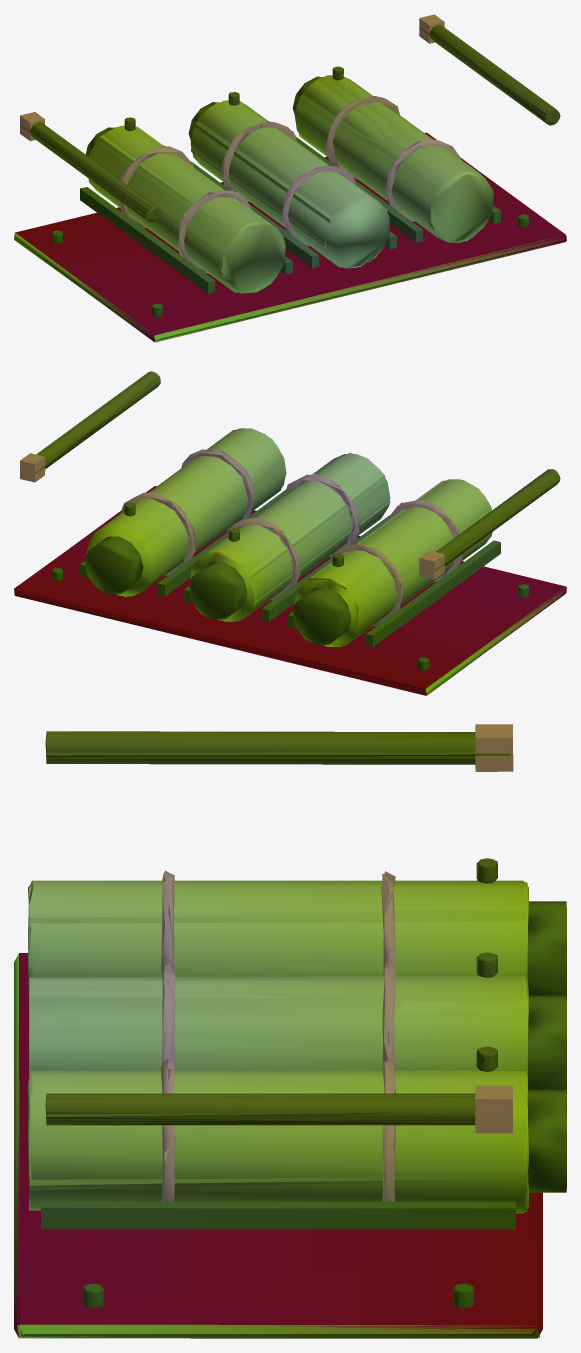
Rendered from RCLModule_gravitas_breaker_quantum_hyperdrive_alloy_fueldrums_LODs.fbx.
3 views of the same model, one above another, from view 1: azimuth 30°, elevation 25°; view 2: azimuth 150°, elevation 25°; view 3: azimuth 270°, elevation 25° (orthographic). The views are drawn at different scales.
Parts seen in each view (by area): view 1: LOD1_RCLModule_gravitas_breaker_quantum_hyperdrive_alloy_fue (×3), LOD2_RCLModule_gravitas_breaker_quantum_hyperdrive_alloy_fue (×3); view 2: LOD1_RCLModule_gravitas_breaker_quantum_hyperdrive_alloy_fue (×3), LOD2_RCLModule_gravitas_breaker_quantum_hyperdrive_alloy_fue (×3); view 3: LOD1_RCLModule_gravitas_breaker_quantum_hyperdrive_alloy_fue (×3), LOD2_RCLModule_gravitas_breaker_quantum_hyperdrive_alloy_fue (×3).
Part boxes in pixels (box(x1,y1,x2,y2)): LOD1_RCLModule_gravitas_breaker_quantum_hyperdrive_alloy_fue (×3): box(14, 14, 566, 342); LOD2_RCLModule_gravitas_breaker_quantum_hyperdrive_alloy_fue (×3): box(14, 24, 566, 342); LOD1_RCLModule_gravitas_breaker_quantum_hyperdrive_alloy_fue (×3): box(15, 371, 566, 695); LOD2_RCLModule_gravitas_breaker_quantum_hyperdrive_alloy_fue (×3): box(14, 371, 566, 695); LOD1_RCLModule_gravitas_breaker_quantum_hyperdrive_alloy_fue (×3): box(14, 724, 566, 1338); LOD2_RCLModule_gravitas_breaker_quantum_hyperdrive_alloy_fue (×3): box(17, 731, 539, 1338).
Size of the model in its own units: 64 by 19.13 by 39.73.
